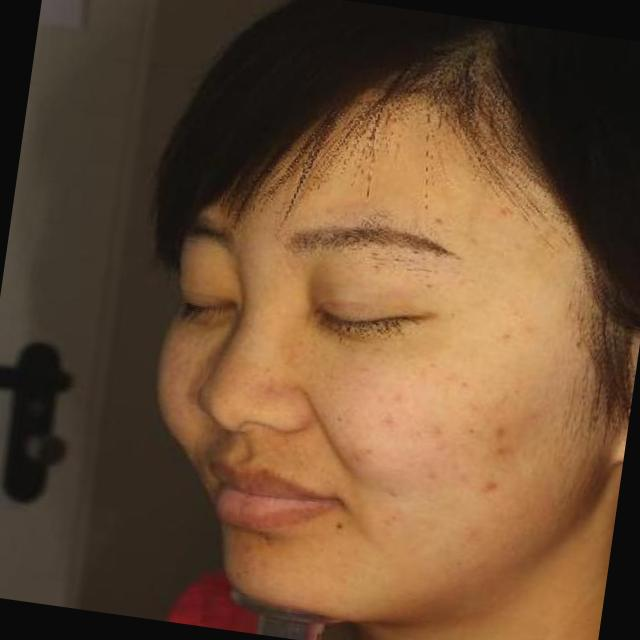darkspot: (478, 436, 522, 469), (422, 415, 454, 455), (344, 438, 380, 468), (370, 406, 400, 438), (377, 480, 402, 512), (486, 418, 518, 442), (471, 471, 498, 498), (492, 198, 518, 226), (418, 458, 444, 486), (385, 386, 410, 412), (495, 324, 512, 346)
